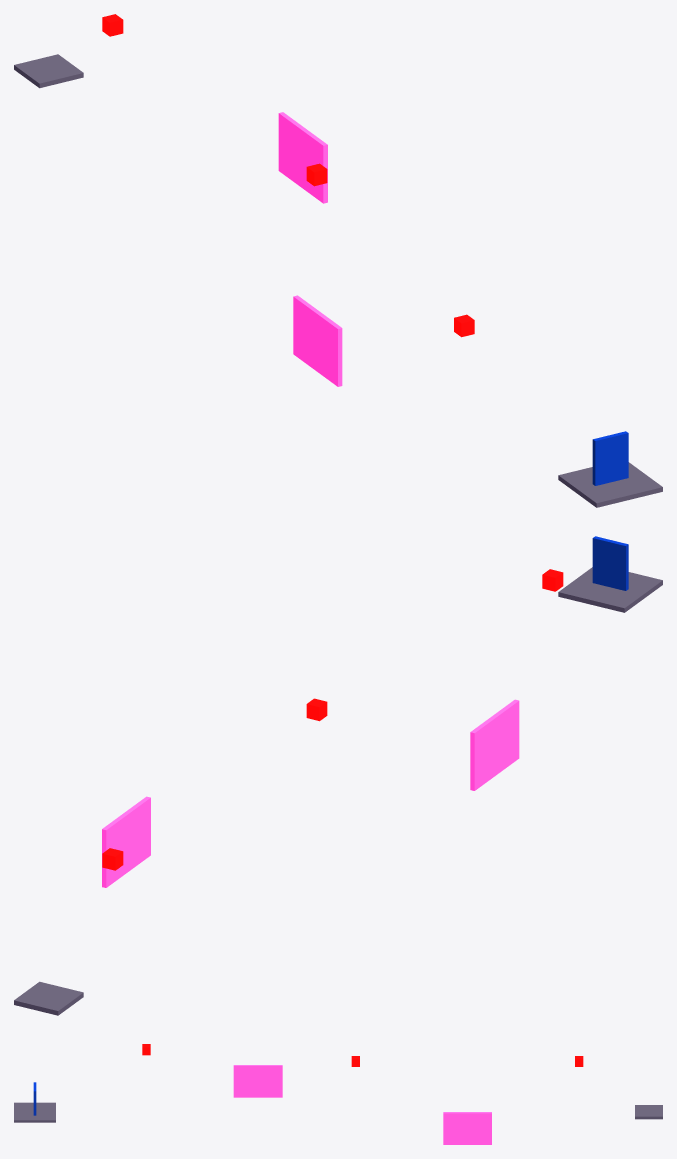
File: level12FBX.fbx
3 views of the same model, one above another, from view 1: azimuth 30°, elevation 25°; view 2: azimuth 150°, elevation 25°; view 3: azimuth 270°, elevation 25° (orthographic). The views are drawn at different scales.
Parts seen in each view (by area): view 1: Wall_Run__2_, Wall_Run__1_, Cube__6_, nextLevel, Cube__2_; view 2: Wall_Run__2_, Wall_Run__1_, Cube__6_, nextLevel, Cube__2_; view 3: Wall_Run__2_, Wall_Run__1_, Cube__6_, Cube__2_.
Part boxes in pixels (box(x1,y1,x2,y2)): Wall_Run__2_: box(293, 295, 342, 386); Wall_Run__1_: box(278, 112, 327, 203); Cube__6_: box(558, 462, 662, 507); nextLevel: box(592, 431, 628, 485); Cube__2_: box(14, 54, 83, 88); Wall_Run__2_: box(470, 699, 519, 790); Wall_Run__1_: box(102, 796, 150, 887); Cube__6_: box(558, 567, 662, 612); nextLevel: box(592, 536, 628, 590); Cube__2_: box(14, 981, 83, 1015); Wall_Run__2_: box(233, 1065, 282, 1097); Wall_Run__1_: box(443, 1112, 491, 1144); Cube__6_: box(14, 1102, 55, 1122); Cube__2_: box(635, 1105, 662, 1119).
Size of the model in its own units: 4100 by 2488 by 23250.
